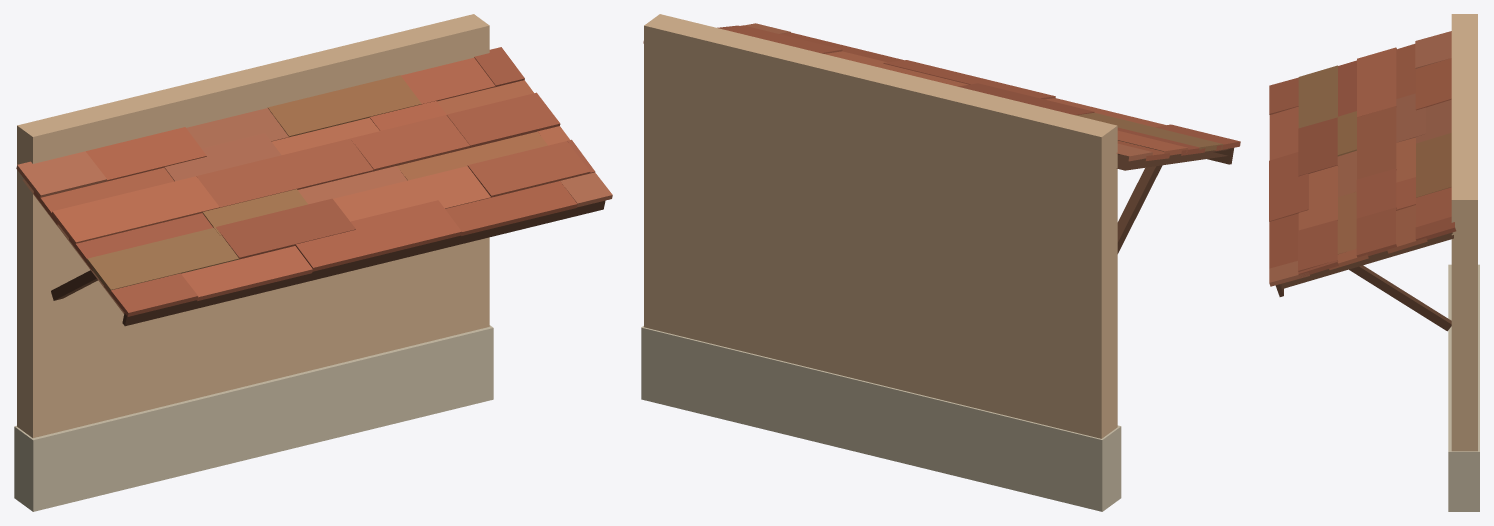
File: tejado_alero_largo.glb
3 views of the same model, side by side, from view 1: azimuth 30°, elevation 25°; view 2: azimuth 150°, elevation 25°; view 3: azimuth 270°, elevation 25° (orthographic). The views are drawn at different scales.
Visible parts, largest first — view 1: tejado_alero_largo_fijo; view 2: tejado_alero_largo_fijo; view 3: tejado_alero_largo_fijo.
Part boxes in pixels (<box>): tejado_alero_largo_fijo: <box>14,14,612,511</box>; tejado_alero_largo_fijo: <box>641,14,1240,511</box>; tejado_alero_largo_fijo: <box>1269,14,1479,511</box>.
Size of the model in its own units: 5.3 by 3.9 by 2.39.
